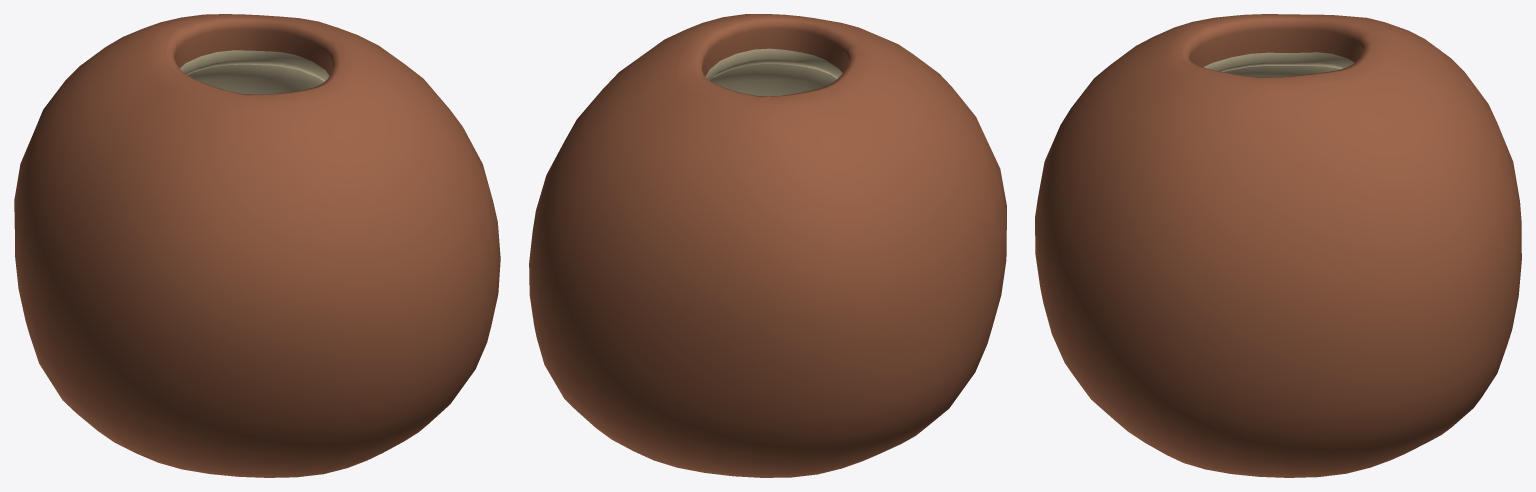
Rendered from Coconut_07.dae.
The picture shows the model from 3 angles, left to right: view 1: azimuth 30°, elevation 25°; view 2: azimuth 150°, elevation 25°; view 3: azimuth 270°, elevation 25°; orthographic projection.
Parts seen in each view (by area): view 1: Coconut_07_LOD0; view 2: Coconut_07_LOD0; view 3: Coconut_07_LOD0.
Part boxes in pixels (<box>): Coconut_07_LOD0: <box>14,14,500,477</box>; Coconut_07_LOD0: <box>529,14,1006,477</box>; Coconut_07_LOD0: <box>1035,14,1521,477</box>.
Size of what is drawn, in the model's own units: 3.96 by 4.12 by 3.68.
